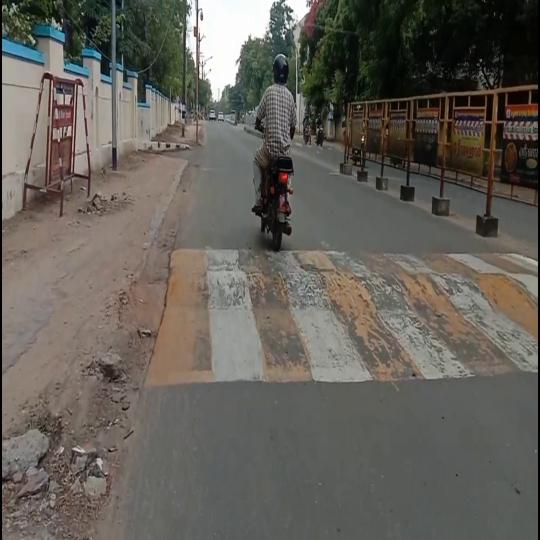Speed Bump: (142, 248, 538, 382)
